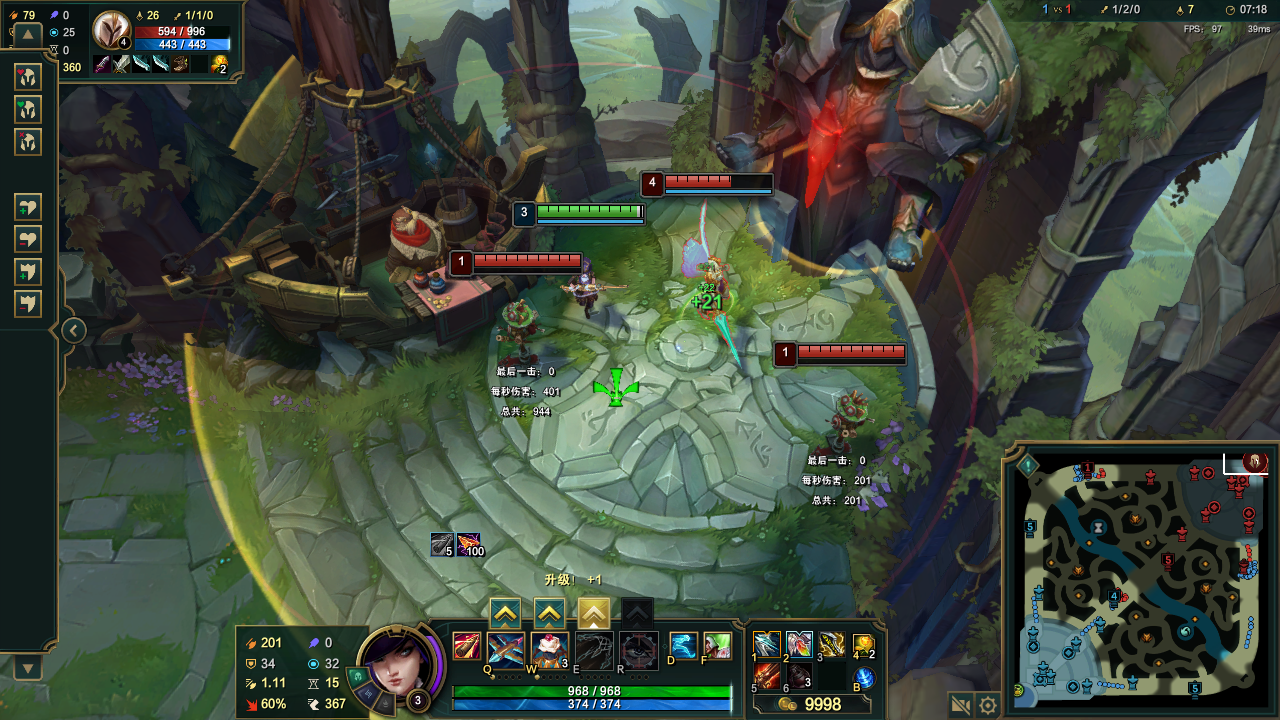DFYX: (800, 333, 911, 358), (472, 250, 583, 266), (665, 172, 776, 188)
